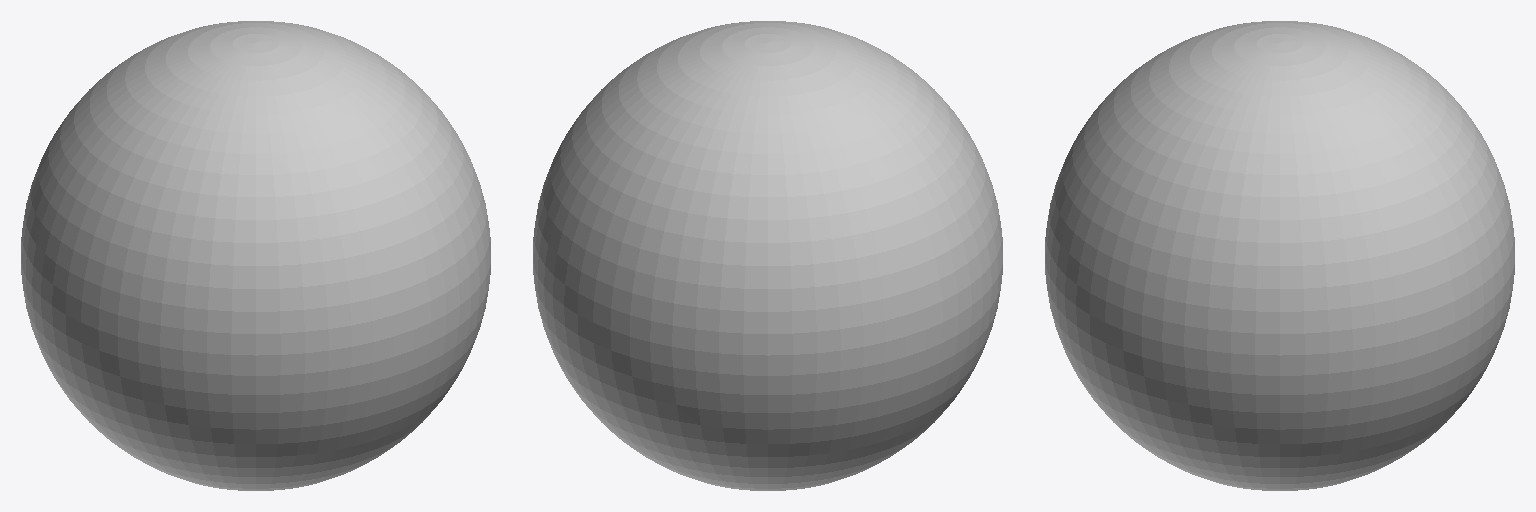
The model's file is unit_sphere.obj.
3 renders of one model, left to right at view 1: azimuth 30°, elevation 25°; view 2: azimuth 150°, elevation 25°; view 3: azimuth 270°, elevation 25°, orthographic.
Visible parts, largest first — view 1: Sphere; view 2: Sphere; view 3: Sphere.
Boxes of the visible parts, box(x1,y1,x2,y2) form: Sphere: box(21, 21, 490, 490); Sphere: box(533, 21, 1002, 490); Sphere: box(1045, 21, 1514, 490).
Bounding box in the file's own units: 1 × 1 × 1.